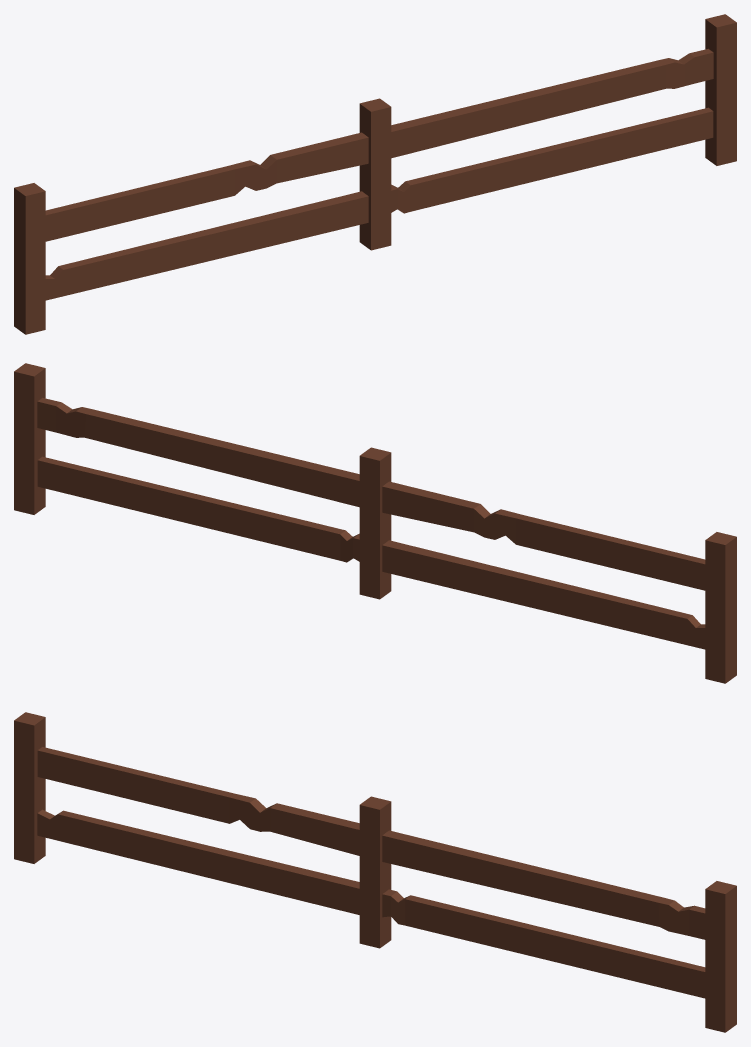
Rendered from Fence.glb.
3 renders of one model, top to bottom at view 1: azimuth 30°, elevation 25°; view 2: azimuth 150°, elevation 25°; view 3: azimuth 330°, elevation 25°, orthographic.
Parts seen in each view (by area): view 1: Fence_Body; view 2: Fence_Body; view 3: Fence_Body.
Part boxes in pixels (x1,y1,x2,y2): Fence_Body: (14, 14, 736, 334); Fence_Body: (14, 363, 736, 683); Fence_Body: (14, 712, 736, 1032).
Bounding box in the file's own units: 5.89 × 1.1 × 0.1655.
